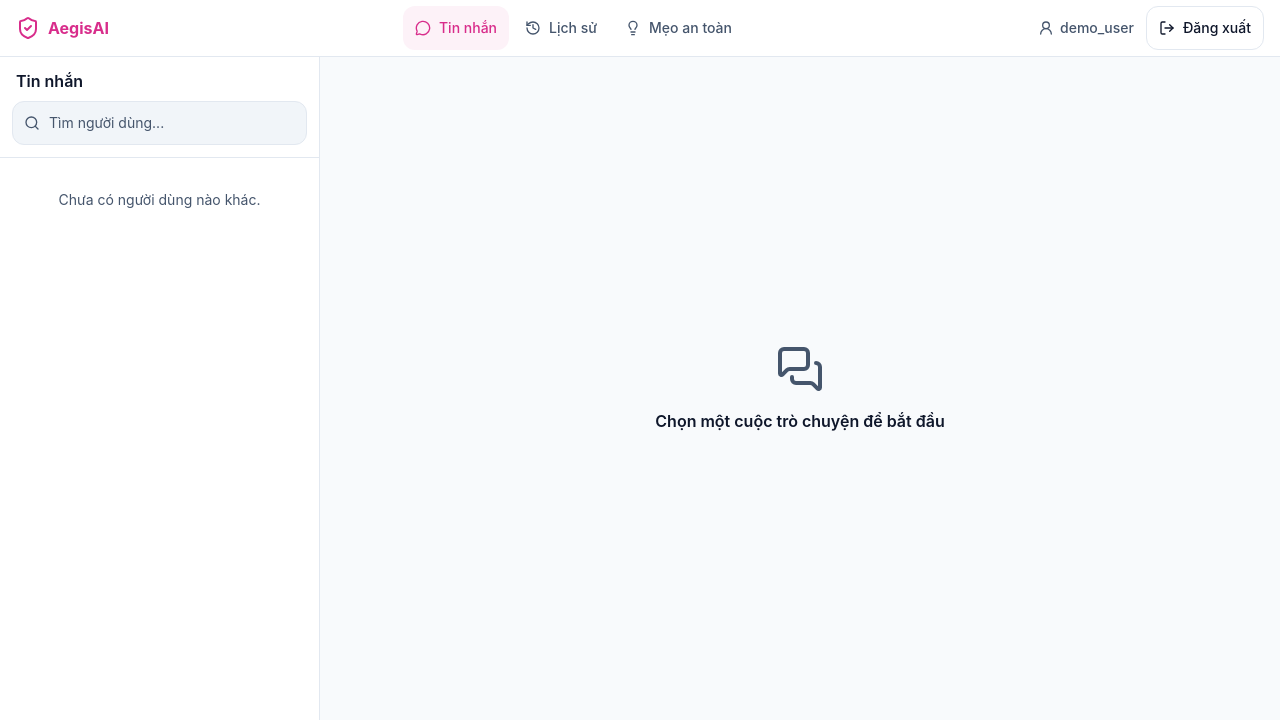
Test: Điều hướng và phân quyền › đăng xuất đưa về trang đăng nhập và xóa phiên
Check: the header is shown, box [0,0,1279,57]
Click the button "Đăng xuất": (1205, 28) [1146,6,1264,50]
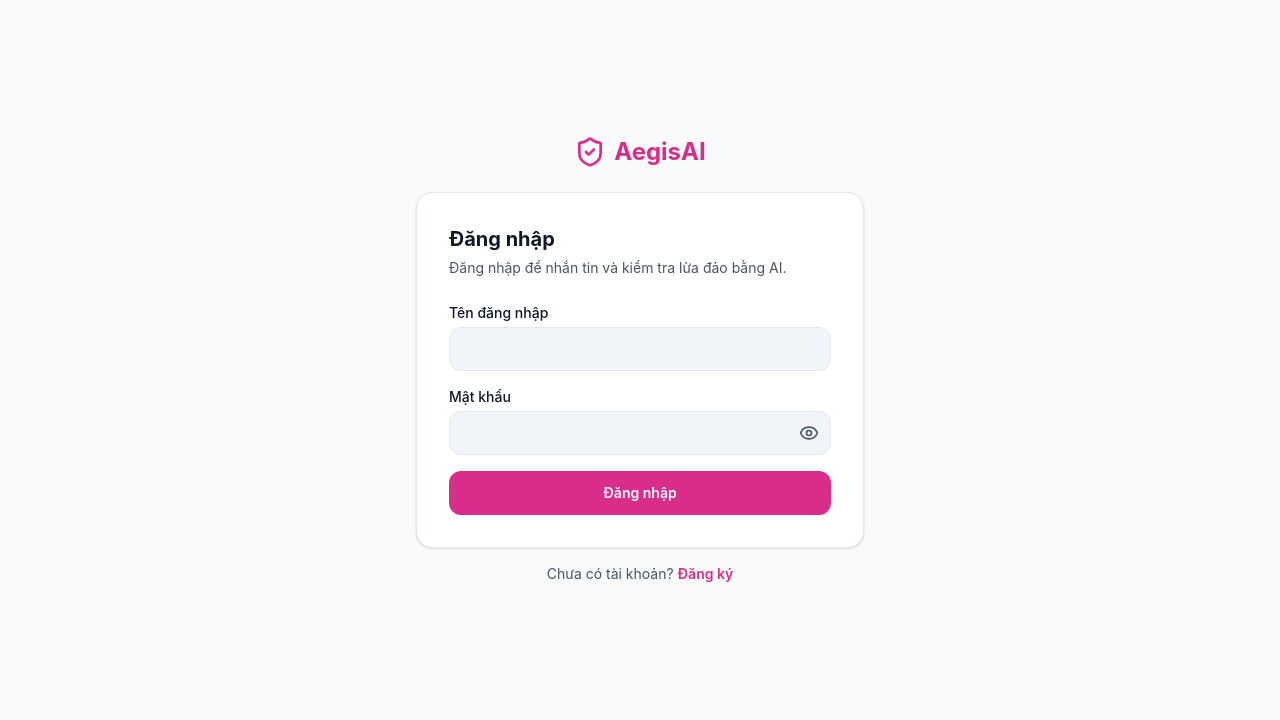
Check: the heading "Đăng nhập" is shown, box [449,227,555,251]
